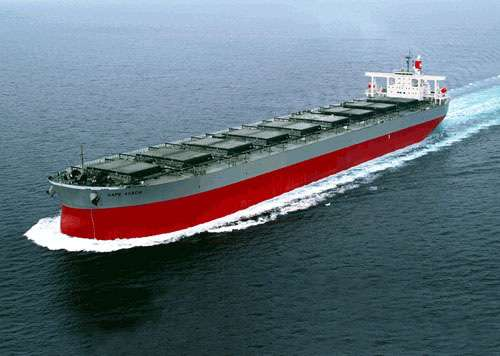Cargoship: (48, 46, 453, 241)
